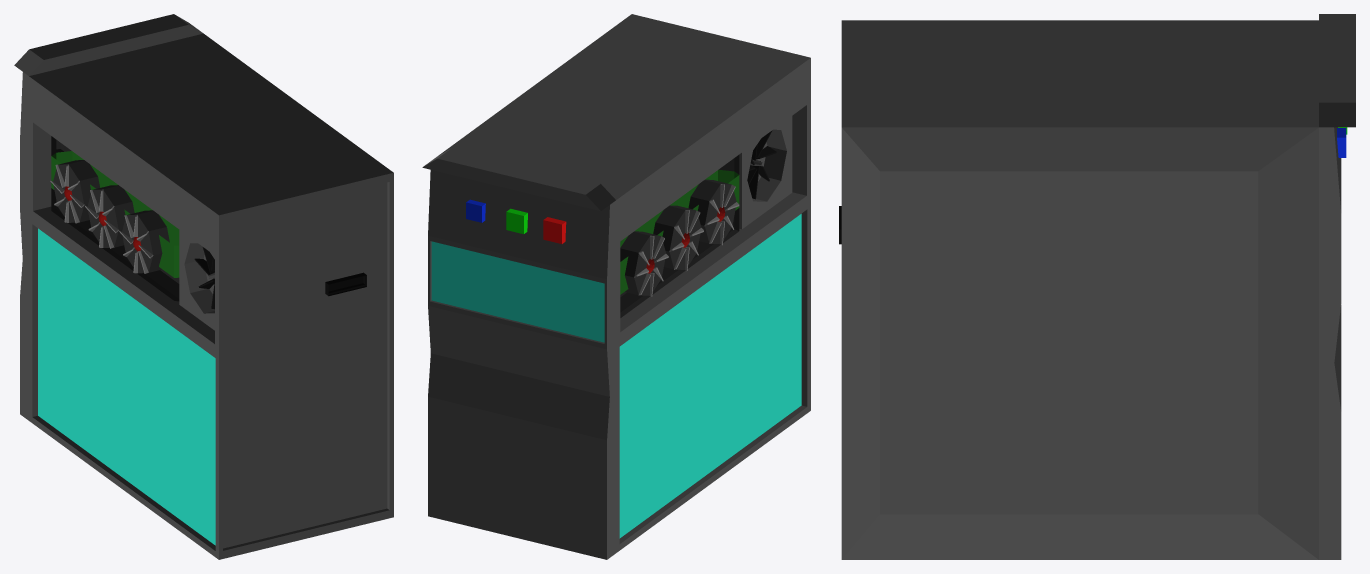
Rendered from Computer Case 4.fbx.
3 views of the same model, side by side, from view 1: azimuth 30°, elevation 25°; view 2: azimuth 150°, elevation 25°; view 3: azimuth 270°, elevation 25° (orthographic). The views are drawn at different scales.
Visible parts, largest first — view 1: Node 0; view 2: Node 0; view 3: Node 0.
Part boxes in pixels (bbox=[...]): Node 0: bbox=[14, 14, 393, 559]; Node 0: bbox=[422, 14, 810, 559]; Node 0: bbox=[839, 14, 1355, 559].
Bounding box in the file's own units: 0.2944 × 0.2816 × 0.1516.
